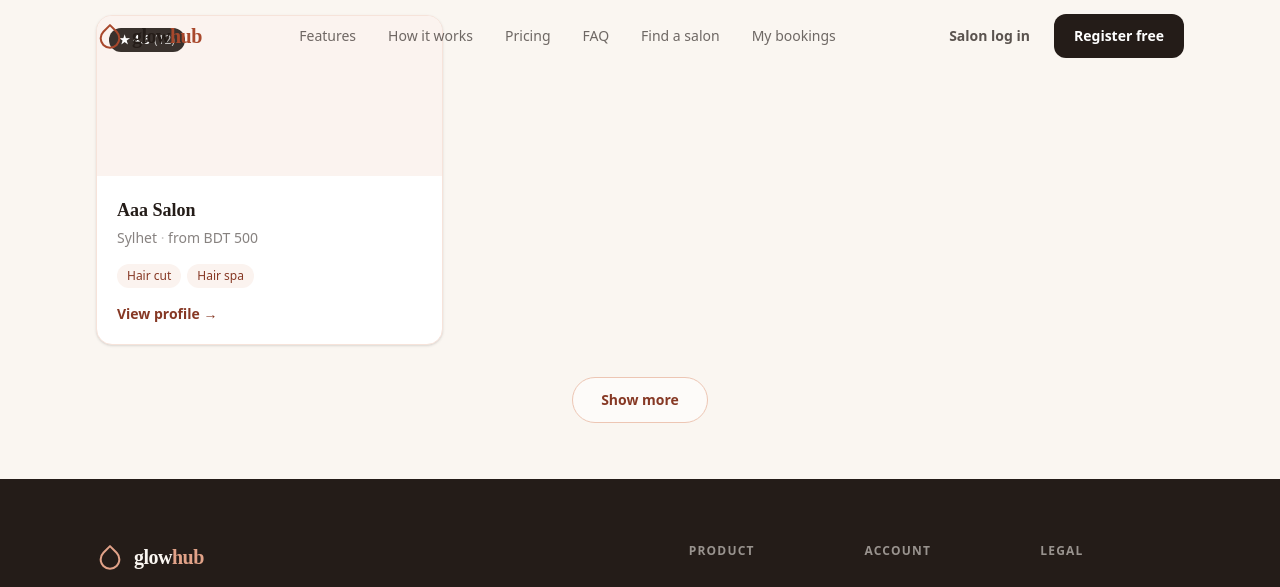
SalonSearchView › shows "Show more" when the total exceeds what has loaded, and appends on click
This screenshot has width=1280, height=587.
(page scrolled)
Click the button with test id "show-more".
click(640, 400)  # box x1=572 y1=377 x2=708 y2=423
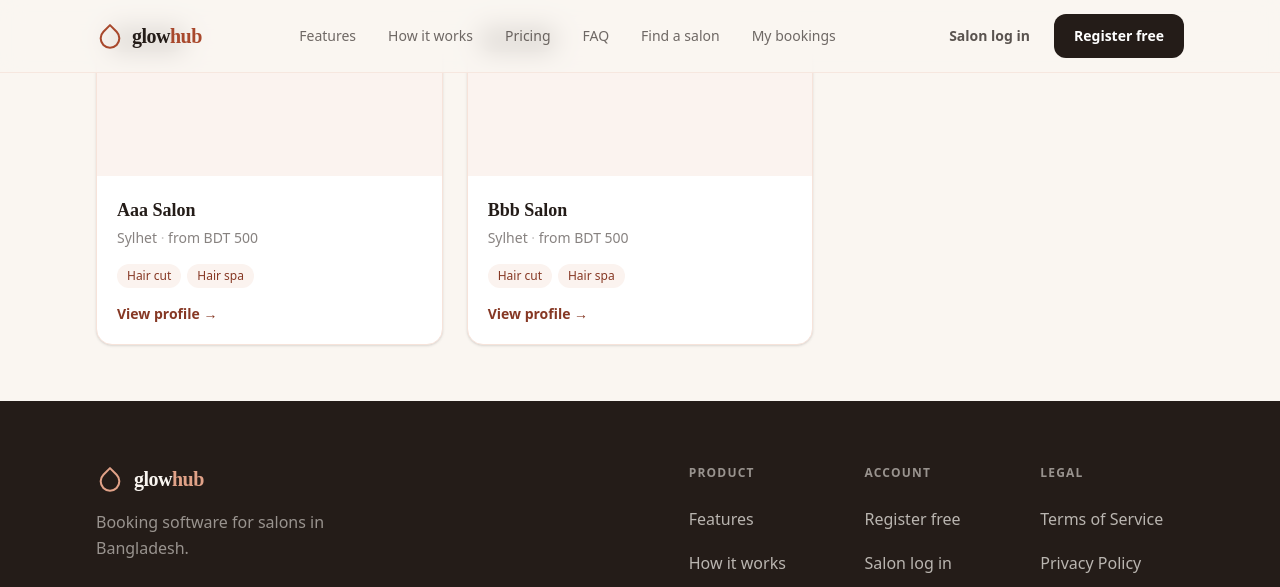
Expected: the text "Aaa Salon" is shown, x1=117 y1=200 x2=196 y2=220
Result: the text "Bbb Salon" is shown at x1=488 y1=200 x2=567 y2=220
